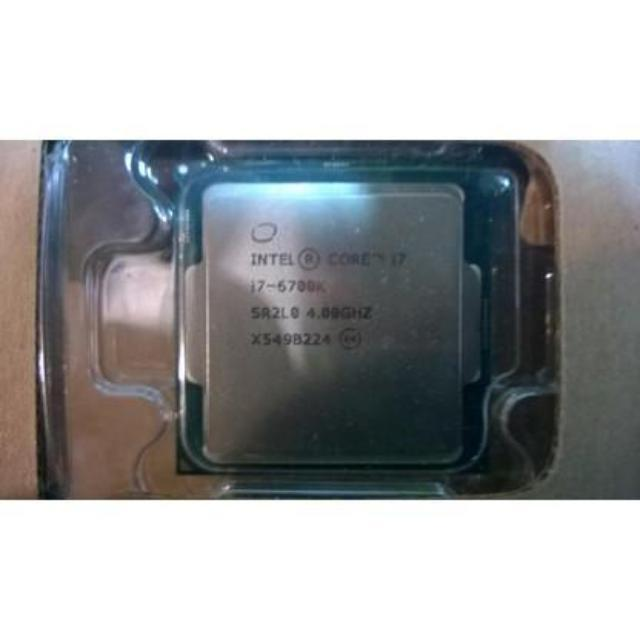CPU: (175, 158, 488, 480)
